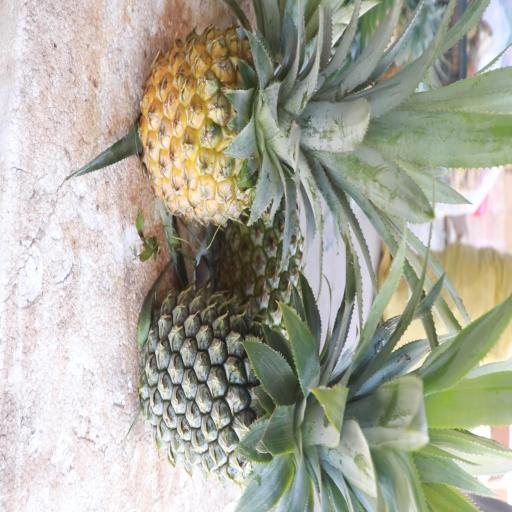Pineapple - v8 v1: (134, 14, 433, 239)
